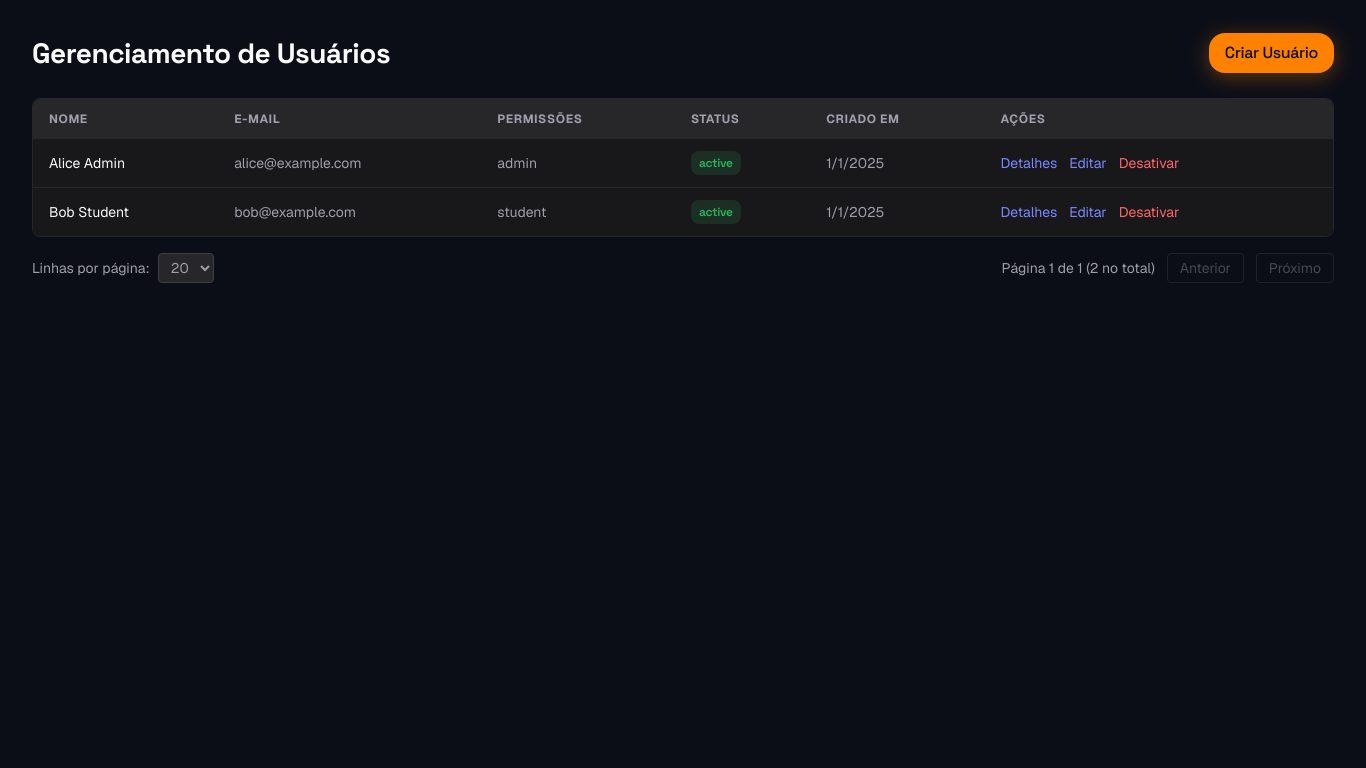
Test: AdminUsersPage — Create User › shows a validation error when required fields are empty
Expected: the text "Alice Admin" is shown, [33, 139, 218, 188]
Click the button "Criar Usuário": (1271, 53) [1209, 33, 1334, 73]
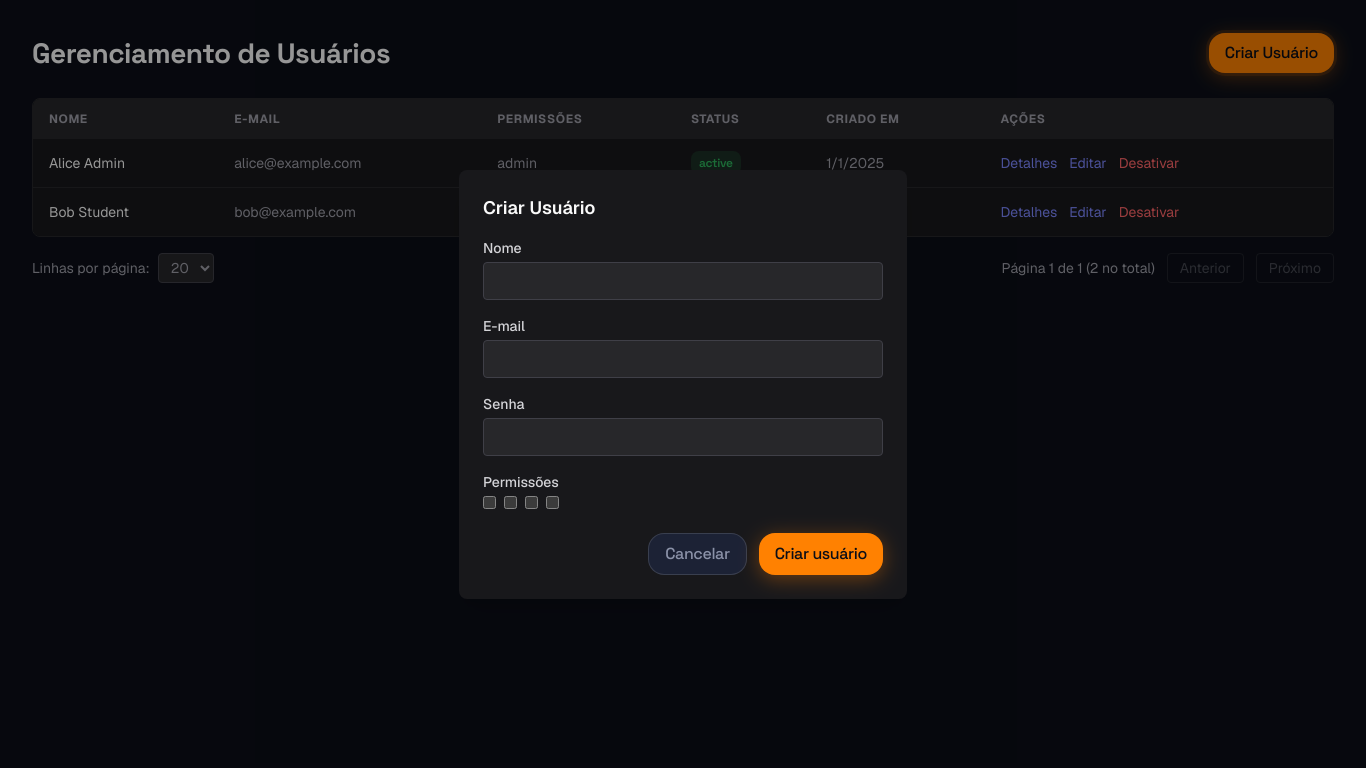
Click the button "Criar usuário": (821, 554) [759, 532, 883, 574]
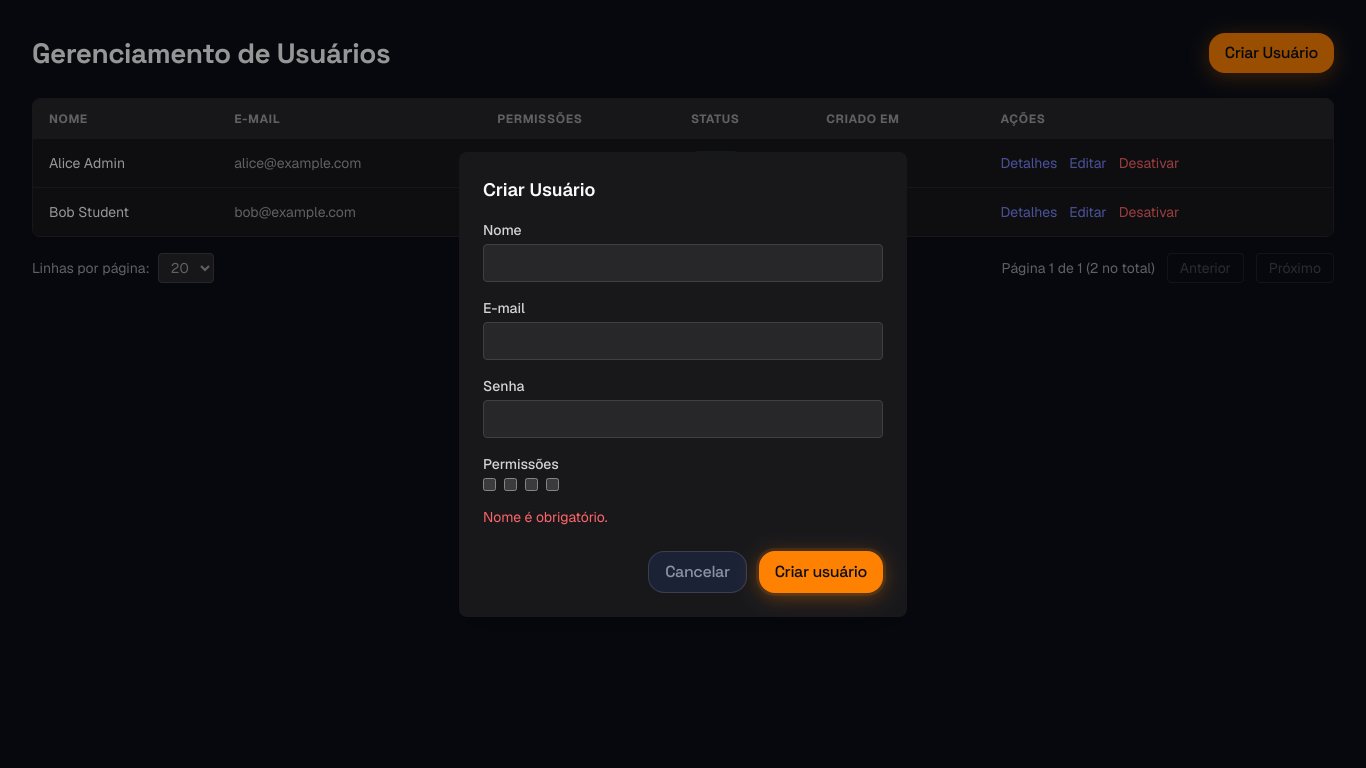
Expected: the message "Nome é obrigatório." is shown, [483, 508, 608, 526]
